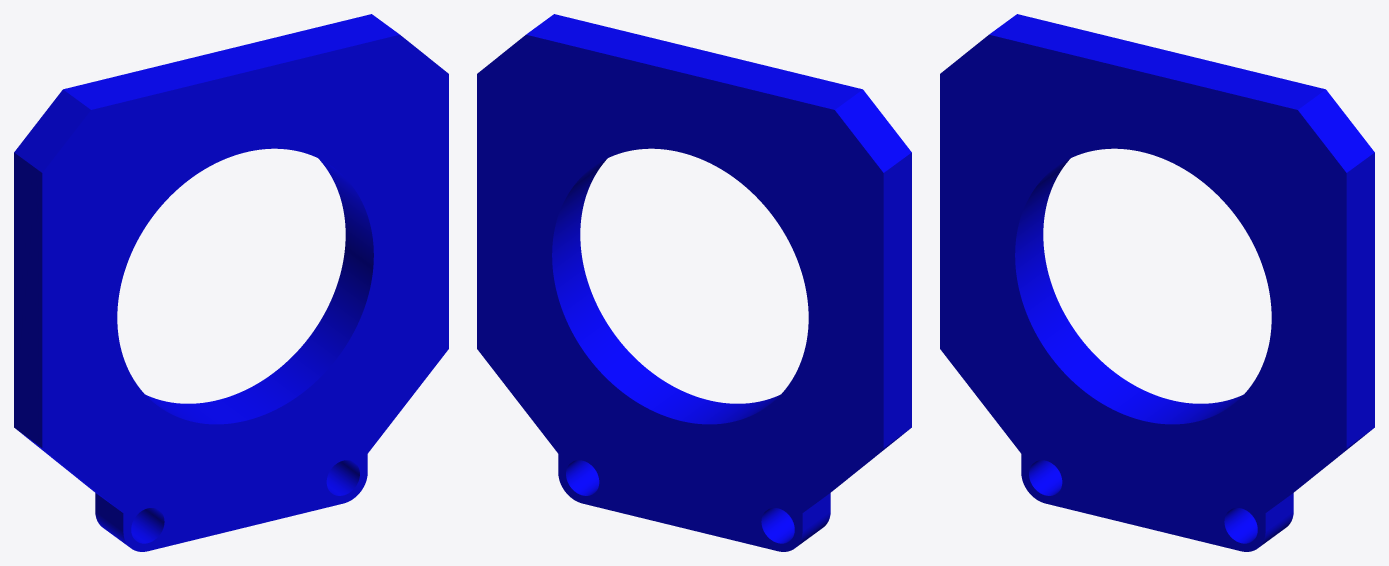
Rendered from V5_Filter Mount (SM1).obj.
3 renders of one model, left to right at view 1: azimuth 30°, elevation 25°; view 2: azimuth 150°, elevation 25°; view 3: azimuth 330°, elevation 25°, orthographic.
Visible parts, largest first — view 1: Solid1:24; view 2: Solid1:24; view 3: Solid1:24.
Boxes of the visible parts, x1,y1,x2,y2 form: Solid1:24: [14, 14, 448, 551]; Solid1:24: [477, 14, 911, 551]; Solid1:24: [940, 14, 1374, 551].
Size of the model in its own units: 41.6 by 44.5 by 5.
